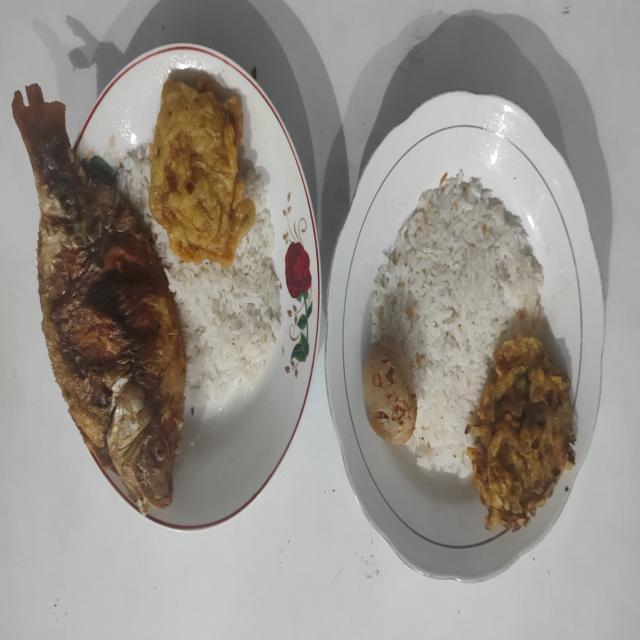ikan_mujair: (12, 85, 186, 512)
nasi_putih: (370, 172, 544, 478), (120, 144, 292, 416)
